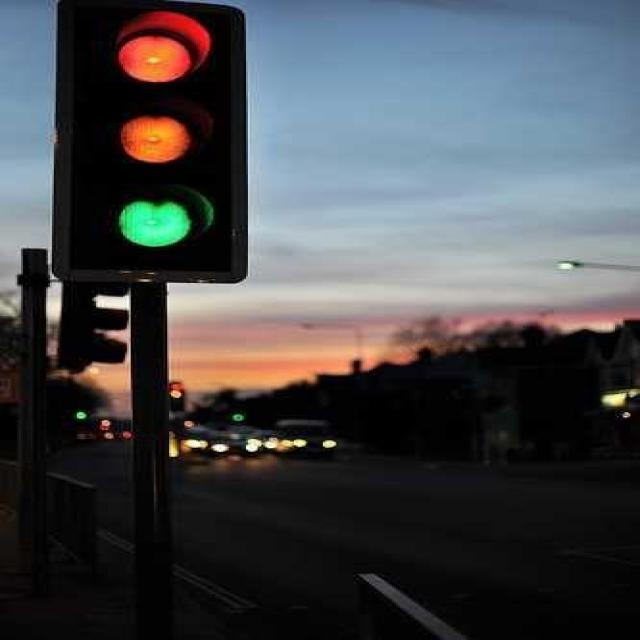Traffic Light -Green-: (94, 184, 228, 274)
Traffic Light -Red-: (90, 7, 232, 92)
Traffic Light -Yellow-: (87, 96, 240, 178)
